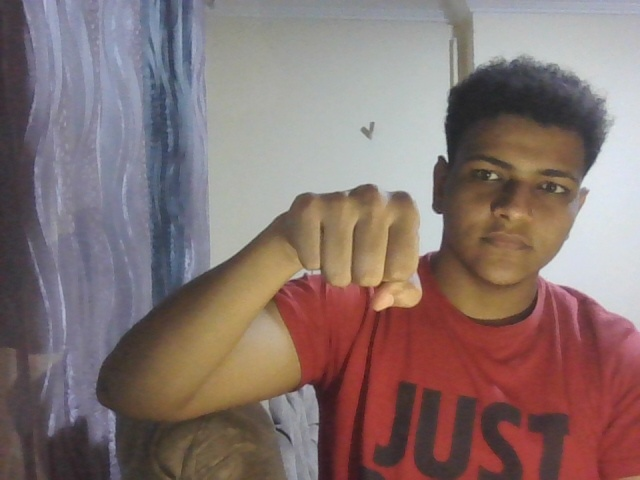yes: (267, 161, 434, 336)
